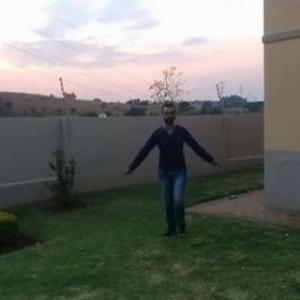land: (117, 100, 221, 234)
